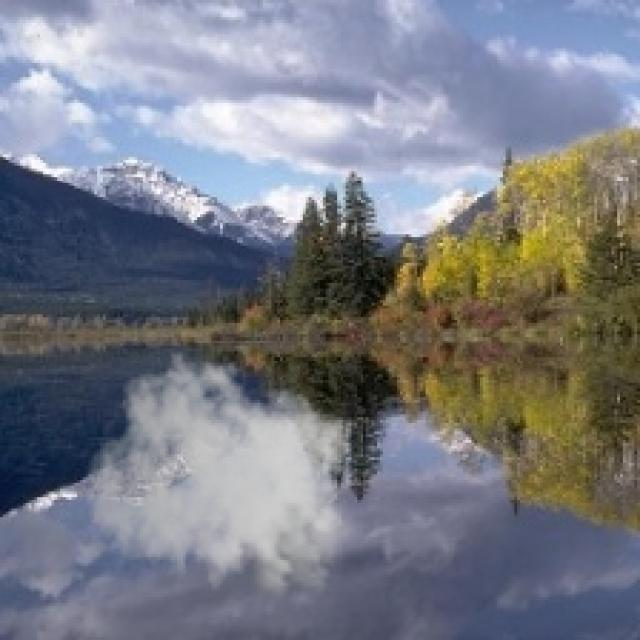smoke: (86, 352, 360, 608)
